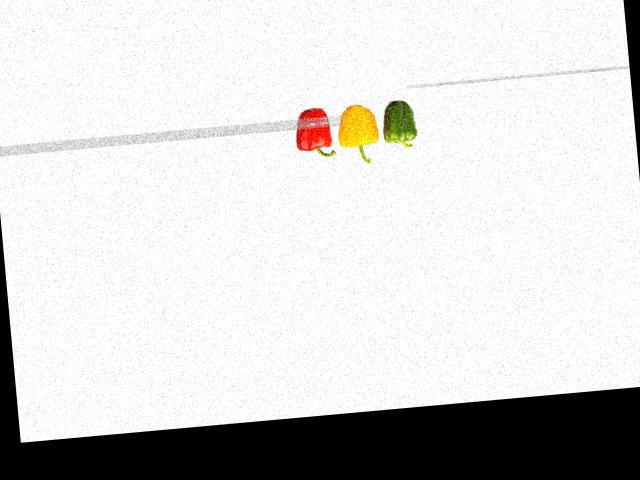bell_pepper: (381, 95, 423, 156)
